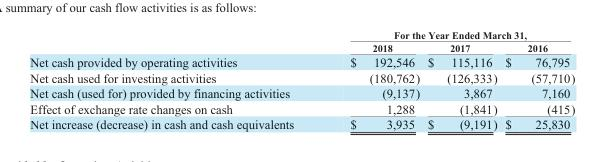table: (29, 29, 574, 131)
table column: (29, 29, 321, 131), (321, 29, 423, 131), (423, 29, 500, 131), (500, 29, 574, 131)
table column header: (29, 29, 574, 54)
table row: (29, 69, 574, 85), (29, 100, 574, 116), (29, 54, 574, 69), (29, 85, 574, 100), (29, 116, 574, 131), (29, 41, 574, 54), (29, 29, 574, 41)
table spanning cell: (321, 29, 574, 41)
